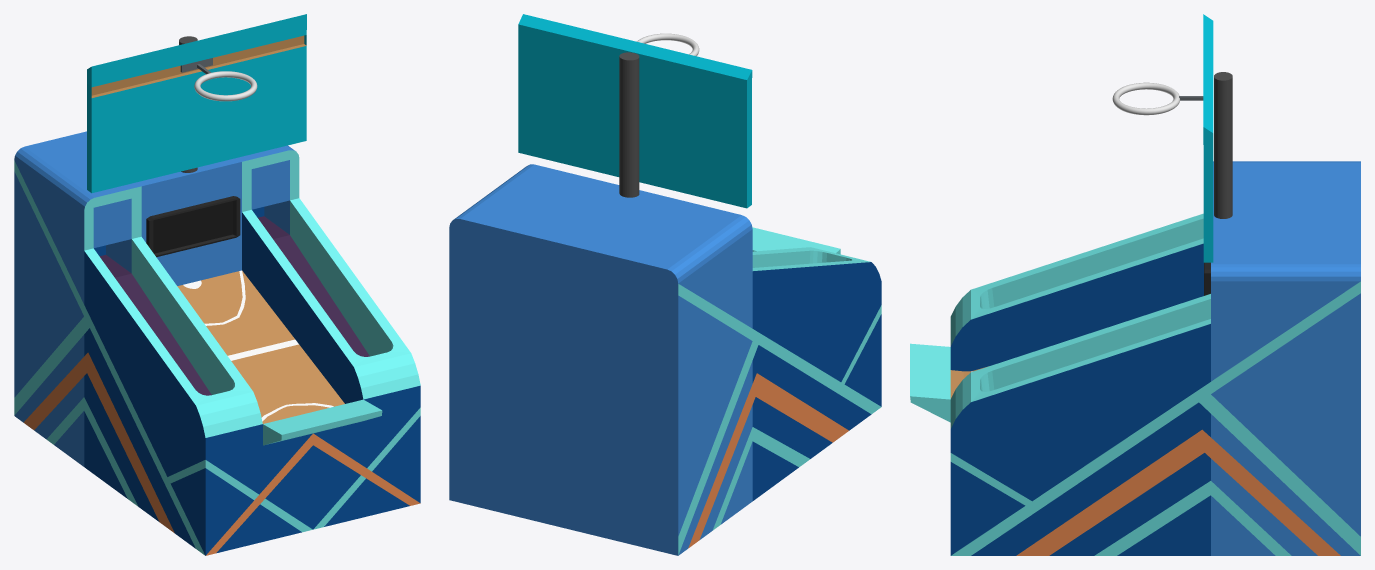
The model's file is arcade.fbx.
3 renders of one model, left to right at view 1: azimuth 30°, elevation 25°; view 2: azimuth 150°, elevation 25°; view 3: azimuth 270°, elevation 25°, orthographic. The views are drawn at different scales.
Visible parts, largest first — view 1: Arcade Body, Basketball pole, Scoreboard, hoop; view 2: Arcade Body, Basketball pole; view 3: Arcade Body, Basketball pole, hoop.
Part boxes in pixels (x1=…): Arcade Body: x1=14, y1=131, x2=420, y2=555; Basketball pole: x1=87, y1=14, x2=306, y2=193; Scoreboard: x1=146, y1=196, x2=240, y2=257; hoop: x1=194, y1=71, x2=257, y2=101; Arcade Body: x1=449, y1=164, x2=881, y2=555; Basketball pole: x1=518, y1=14, x2=752, y2=208; Arcade Body: x1=910, y1=161, x2=1360, y2=555; Basketball pole: x1=1203, y1=14, x2=1232, y2=262; hoop: x1=1112, y1=82, x2=1179, y2=115.
Size of the model in its own units: 483 by 846 by 801.
